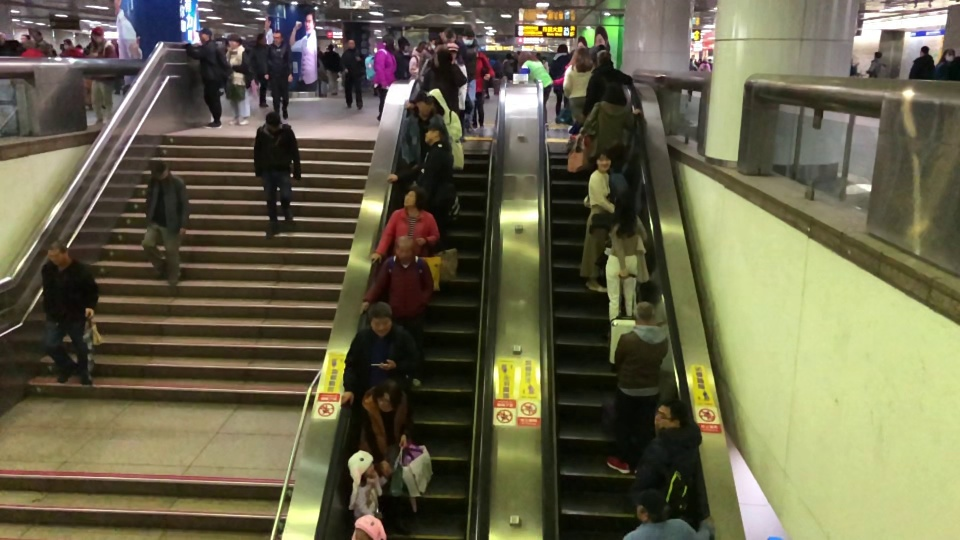person_head: (371, 377, 406, 414), (653, 397, 688, 434), (366, 300, 396, 339), (635, 490, 667, 525), (347, 446, 377, 483), (353, 511, 386, 540), (393, 234, 416, 265), (614, 194, 638, 223), (45, 239, 70, 265), (634, 299, 656, 328), (603, 80, 626, 105), (403, 184, 424, 208), (424, 124, 445, 147), (415, 88, 433, 114), (151, 160, 170, 181), (594, 149, 612, 171), (433, 49, 453, 68), (264, 110, 280, 133), (595, 48, 614, 67), (573, 45, 589, 65), (517, 50, 537, 63), (197, 27, 213, 43), (461, 29, 475, 47), (91, 26, 105, 43), (381, 33, 395, 50), (397, 34, 410, 51), (227, 34, 242, 48), (941, 47, 956, 61), (271, 31, 284, 45), (346, 38, 357, 51), (31, 30, 43, 41), (919, 45, 930, 57), (556, 43, 569, 53), (873, 49, 883, 62)
person_vbox: (359, 235, 434, 388), (605, 301, 670, 473), (633, 399, 711, 528), (339, 301, 421, 419), (40, 239, 101, 387), (387, 125, 452, 250), (582, 80, 643, 193), (603, 194, 648, 341), (141, 161, 190, 286), (253, 111, 302, 236), (356, 377, 415, 479), (369, 185, 440, 266), (181, 27, 234, 127), (580, 149, 615, 293), (619, 489, 715, 540), (427, 87, 464, 218), (405, 49, 467, 116), (398, 90, 449, 169), (583, 51, 635, 116), (561, 44, 596, 137), (345, 447, 388, 521), (85, 25, 117, 123), (515, 50, 553, 131), (223, 34, 254, 125), (365, 35, 397, 121), (263, 31, 294, 119), (456, 29, 476, 132), (547, 43, 573, 117), (339, 38, 365, 111), (908, 44, 935, 81), (391, 37, 414, 79), (23, 30, 53, 57), (865, 50, 888, 77)
